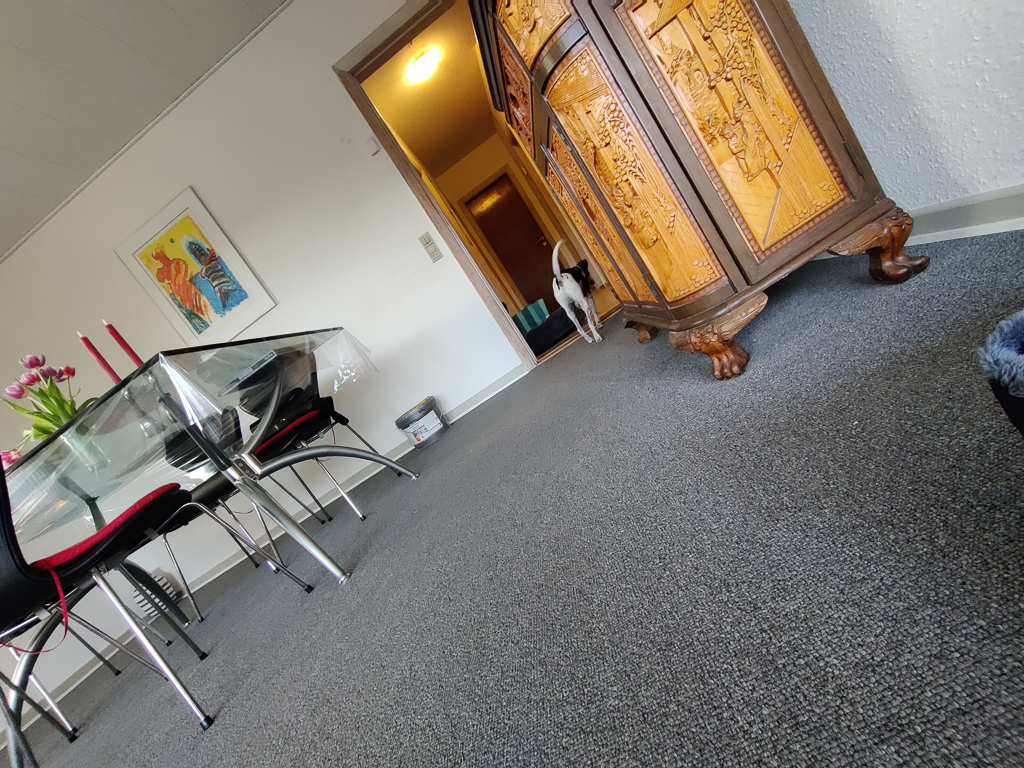Dog: (548, 234, 614, 351)
